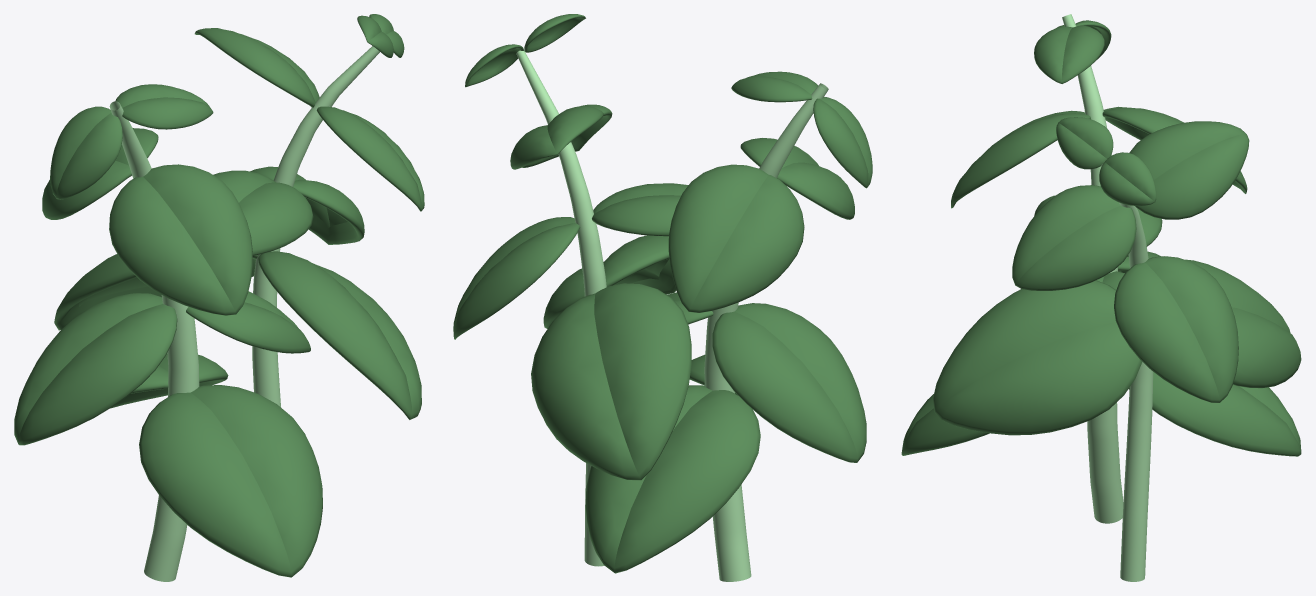
File: Plant.fbx
The picture shows the model from 3 angles, left to right: view 1: azimuth 30°, elevation 25°; view 2: azimuth 150°, elevation 25°; view 3: azimuth 270°, elevation 25°; orthographic projection. The views are drawn at different scales.
Visible parts, largest first — view 1: Leaf.009, Leaf.013, Leaf.012, Leaf.003, Cylinder.003, Leaf.016, Leaf.002, Cylinder.001, Leaf.006, Leaf.011, Leaf.005, Leaf.015 (+6 smaller); view 2: Leaf.004, Leaf.010, Leaf.012, Leaf.014, Leaf.001, Cylinder.003, Cylinder.001, Leaf.003, Leaf.002, Leaf.013, Leaf.016, Leaf.005 (+4 smaller); view 3: Leaf.003, Leaf.001, Leaf.006, Leaf.005, Leaf.010, Cylinder.001, Leaf.004, Cylinder.003, Leaf.013, Leaf.015, Leaf.007, Leaf.008 (+3 smaller).
Boxes of the visible parts, x1,y1,x2,y2 form: Leaf.009: (139, 385, 322, 577); Leaf.013: (109, 164, 252, 315); Leaf.012: (14, 293, 177, 445); Leaf.003: (258, 251, 421, 419); Cylinder.003: (109, 101, 199, 581); Leaf.016: (50, 106, 122, 199); Leaf.002: (213, 170, 313, 255); Cylinder.001: (252, 46, 379, 407); Leaf.006: (316, 106, 424, 211); Leaf.011: (186, 291, 310, 353); Leaf.005: (194, 28, 319, 107); Leaf.015: (115, 84, 213, 129); Leaf.004: (531, 283, 691, 480); Leaf.010: (585, 385, 760, 573); Leaf.012: (712, 303, 866, 462); Leaf.014: (668, 164, 804, 312); Leaf.001: (453, 217, 580, 339); Cylinder.003: (704, 83, 828, 581); Cylinder.001: (516, 50, 606, 566); Leaf.003: (543, 235, 676, 328); Leaf.002: (592, 183, 688, 236); Leaf.013: (740, 138, 854, 219); Leaf.016: (813, 97, 872, 188); Leaf.005: (510, 106, 603, 169); Leaf.003: (932, 280, 1142, 435); Leaf.001: (1114, 256, 1238, 402); Leaf.006: (1012, 185, 1136, 290); Leaf.005: (1129, 121, 1249, 219); Leaf.010: (1129, 372, 1301, 456); Cylinder.001: (1101, 163, 1153, 581); Leaf.004: (1185, 259, 1301, 388); Cylinder.003: (1062, 14, 1123, 523); Leaf.013: (951, 110, 1090, 208); Leaf.015: (1034, 25, 1104, 83); Leaf.007: (1099, 152, 1156, 205); Leaf.008: (1056, 117, 1113, 169).
Size of the model in its own units: 1.48 by 1.41 by 1.9.
